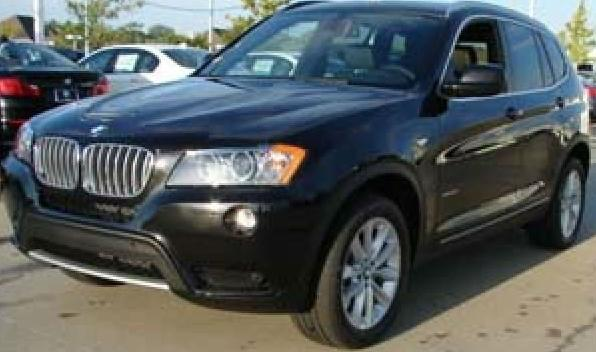front_view: (1, 113, 316, 310)
headlight: (165, 136, 311, 193)
side_glass: (438, 16, 570, 102)
